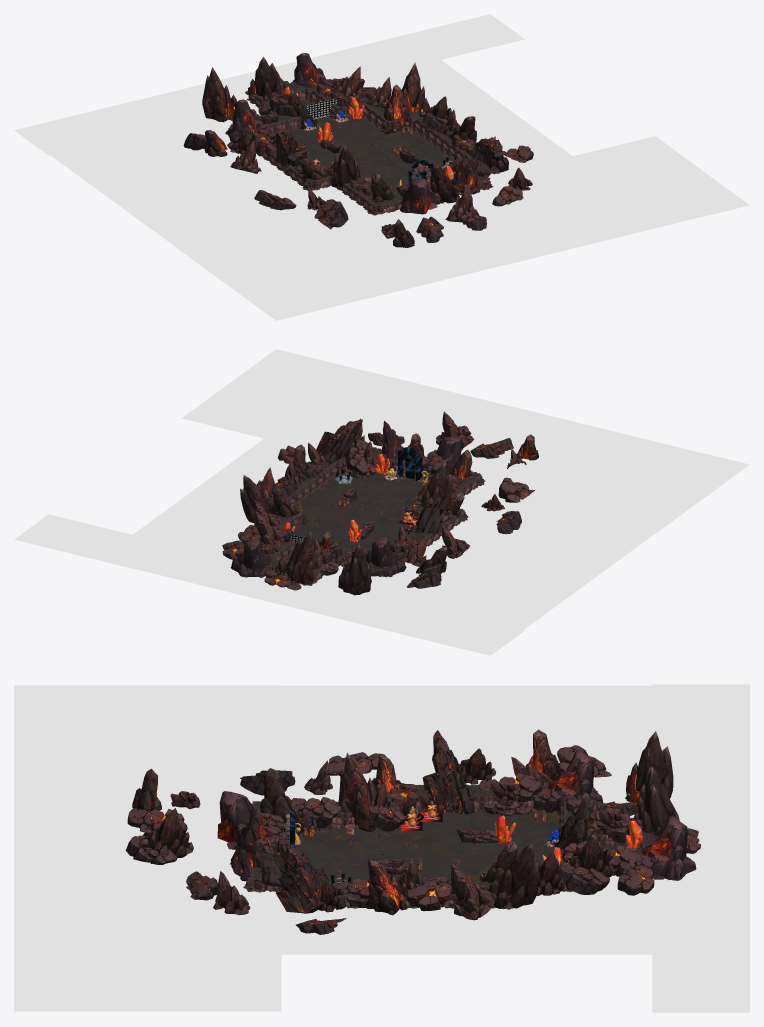
Rendered from LevelMap_1070107.glb.
3 views of the same model, one above another, from view 1: azimuth 30°, elevation 25°; view 2: azimuth 150°, elevation 25°; view 3: azimuth 270°, elevation 25° (orthographic). The views are drawn at different scales.
Parts seen in each view (by area): view 1: EnvCavern_Detail__Lava_4__u3352, EnvCavern_Detail__Lava_7__u2824, EnvCavern_Detail__Lava_3__u2013, EnvCavern_Detail__Lava_6__u3491, LevelMap_1070107_Terrain__u2455, LevelMap_1070107_Terrain_1__u2432, EnvCavern_Detail__Rock___2__u2433, EnvCavern_Detail__Rock___6_2__u2892, EnvCavern_Detail__Rock___2__u2436, EnvCavern_Detail__Rock___4__u3577, EnvCavern_Detail__Rock___6__u3493, EnvCavern_Detail__Rock___2__u3782 (+14 smaller); view 2: EnvCavern_Detail__Lava_4__u3352, EnvCavern_Detail__Lava_7__u2824, EnvCavern_Detail__Lava_3__u2013, EnvCavern_Detail__Lava_6__u3491, LevelMap_1070107_Terrain__u2455, LevelMap_1070107_Terrain_1__u2432, EnvCavern_Detail__Rock___2__u2433, EnvCavern_Detail__Rock___4__u2566, EnvCavern_Detail__Rock___2__u2436, EnvCavern_Detail__Rock___6_1__u3771, EnvCavern_Detail__Rock___6__u3493, EnvCavern_Detail__Lava_1__u3563 (+16 smaller); view 3: EnvCavern_Detail__Lava_4__u3352, EnvCavern_Detail__Lava_7__u2824, EnvCavern_Detail__Lava_3__u2013, EnvCavern_Detail__Lava_6__u3491, LevelMap_1070107_Terrain__u2455, LevelMap_1070107_Terrain_1__u2432, EnvCavern_Detail__Rock___4__u2566, EnvCavern_Detail__Rock___4__u3577, EnvCavern_Detail__Rock___6_1__u3771, EnvCavern_Detail__Lava_5__u2575, EnvCavern_Detail__Rock___2__u3782, EnvCavern_Detail__Rock___2__u2433 (+38 smaller).
Part boxes in pixels (x1,y1,x2,y2): EnvCavern_Detail__Lava_4__u3352: (182,136,749,320); EnvCavern_Detail__Lava_7__u2824: (45,112,378,279); EnvCavern_Detail__Lava_3__u2013: (14,14,524,155); EnvCavern_Detail__Lava_6__u3491: (349,54,610,204); LevelMap_1070107_Terrain__u2455: (307,131,454,193); LevelMap_1070107_Terrain_1__u2432: (272,99,414,157); EnvCavern_Detail__Rock___2__u2433: (202,67,236,122); EnvCavern_Detail__Rock___6_2__u2892: (400,178,440,214); EnvCavern_Detail__Rock___2__u2436: (248,57,281,101); EnvCavern_Detail__Rock___4__u3577: (275,131,307,172); EnvCavern_Detail__Rock___6__u3493: (225,99,263,141); EnvCavern_Detail__Rock___2__u3782: (401,62,429,114); EnvCavern_Detail__Lava_4__u3352: (182,349,749,533); EnvCavern_Detail__Lava_7__u2824: (357,467,671,635); EnvCavern_Detail__Lava_3__u2013: (14,514,524,655); EnvCavern_Detail__Lava_6__u3491: (129,411,382,558); LevelMap_1070107_Terrain__u2455: (296,471,428,538); LevelMap_1070107_Terrain_1__u2432: (285,516,398,561); EnvCavern_Detail__Rock___2__u2433: (338,544,371,595); EnvCavern_Detail__Rock___4__u2566: (316,419,362,464); EnvCavern_Detail__Rock___2__u2436: (286,531,320,584); EnvCavern_Detail__Rock___6_1__u3771: (230,538,271,577); EnvCavern_Detail__Rock___6__u3493: (365,537,406,577); EnvCavern_Detail__Lava_1__u3563: (161,528,241,572); EnvCavern_Detail__Lava_4__u3352: (14,685,281,1011); EnvCavern_Detail__Lava_7__u2824: (172,685,673,795); EnvCavern_Detail__Lava_3__u2013: (652,684,749,1012); EnvCavern_Detail__Lava_6__u3491: (172,896,673,954); LevelMap_1070107_Terrain__u2455: (295,811,470,882); LevelMap_1070107_Terrain_1__u2432: (470,811,627,884); EnvCavern_Detail__Rock___4__u2566: (266,836,329,913); EnvCavern_Detail__Rock___4__u3577: (422,730,474,814); EnvCavern_Detail__Rock___6_1__u3771: (641,816,696,880); EnvCavern_Detail__Lava_5__u2575: (216,880,314,937); EnvCavern_Detail__Rock___2__u3782: (487,843,538,908); EnvCavern_Detail__Rock___2__u2433: (625,731,673,814).
Bounding box in the file's own units: 79.41 × 11.14 × 75.29.
38 materials, 37 textured.
